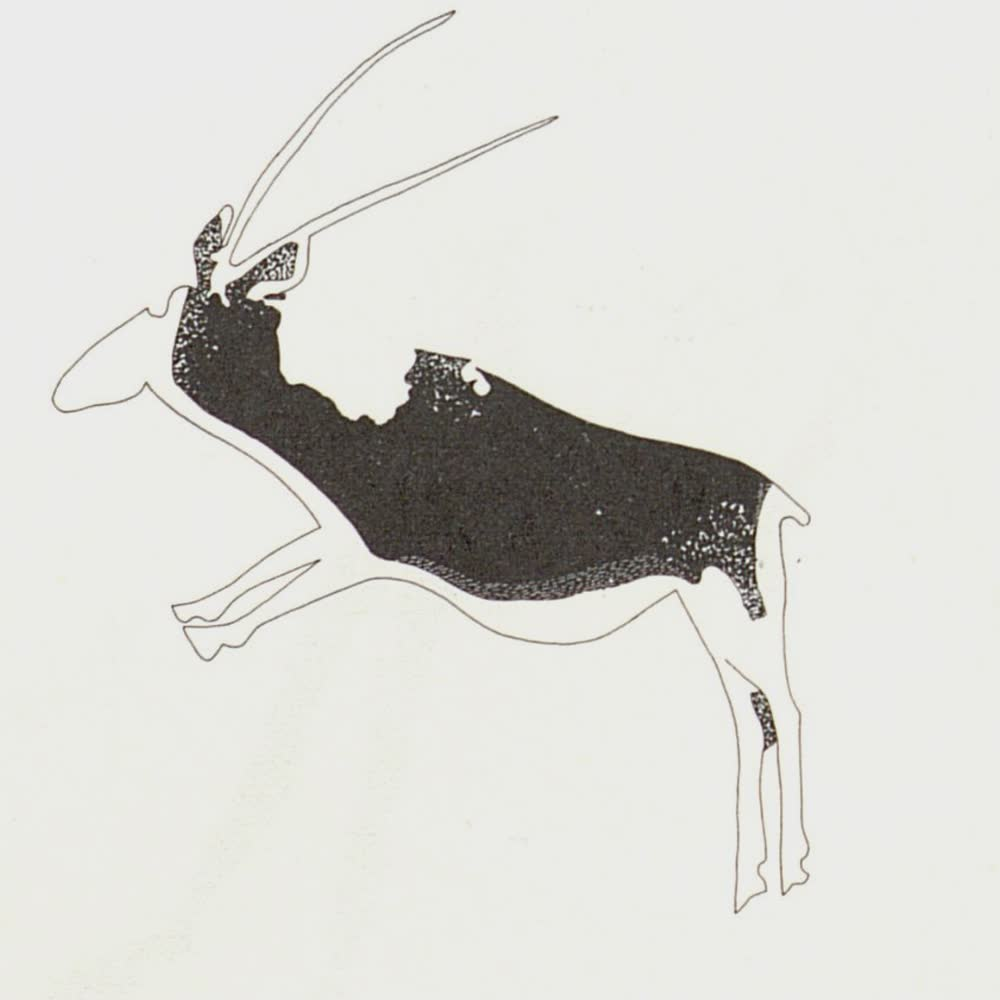animal: (48, 3, 817, 912)
